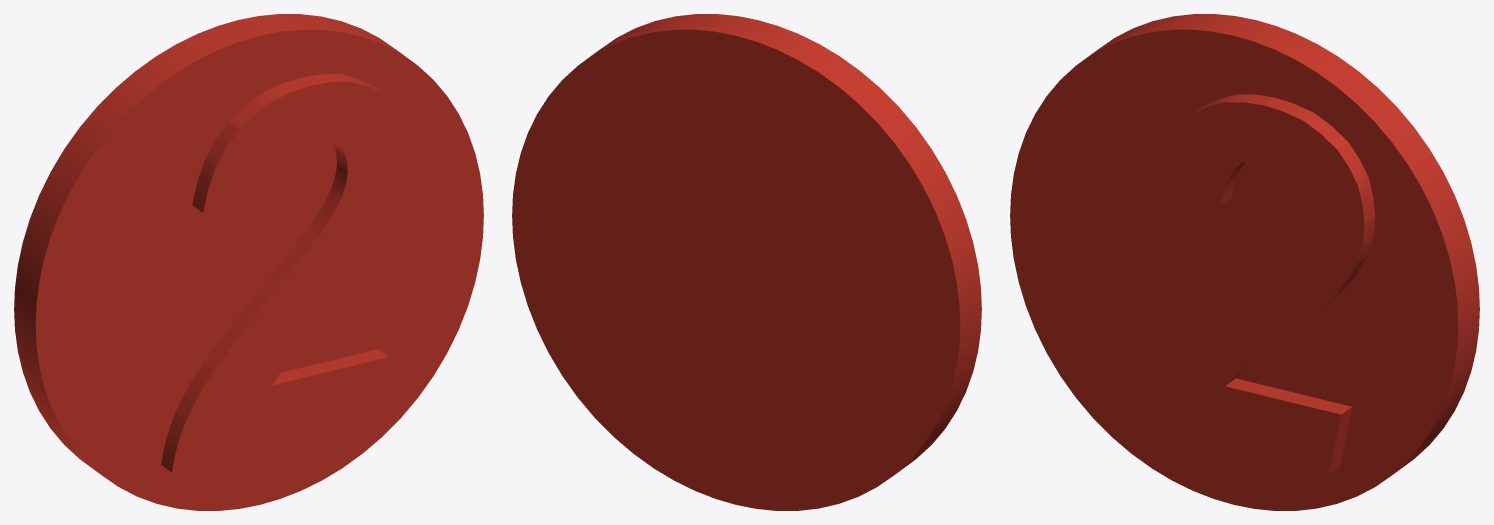
File: disk2.fbx
The picture shows the model from 3 angles, left to right: view 1: azimuth 30°, elevation 25°; view 2: azimuth 150°, elevation 25°; view 3: azimuth 330°, elevation 25°; orthographic projection.
Visible parts, largest first — view 1: Body1; view 2: Body1; view 3: Body1.
Boxes of the visible parts, box(x1,y1,x2,y2) form: Body1: box(14, 14, 483, 510); Body1: box(512, 14, 981, 510); Body1: box(1010, 14, 1479, 510).
Size of the model in its own units: 1200 by 1200 by 150.
